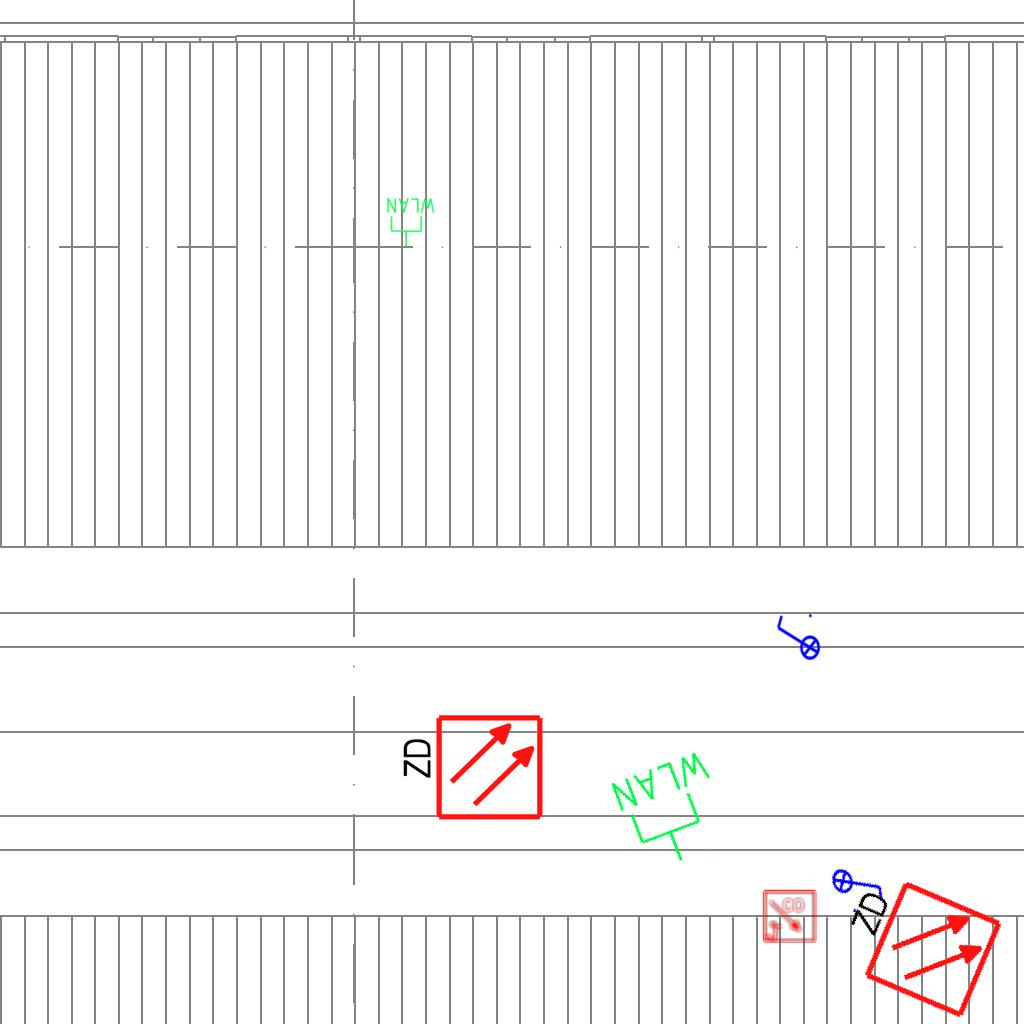Ausschalter_beleuchtet: (824, 848, 892, 920), (773, 611, 821, 667)
ROA_Rauchmelder_optisch_mit_Signalgeber_(Sockelsirene): (762, 889, 818, 945)
WLAN: (605, 744, 741, 879), (385, 196, 437, 248)
ZD_Melder_in_Zwischendecke_mit_Revisionsoeffnung_mind_40_x_40_cm: (824, 861, 1006, 1024), (396, 712, 545, 826)
